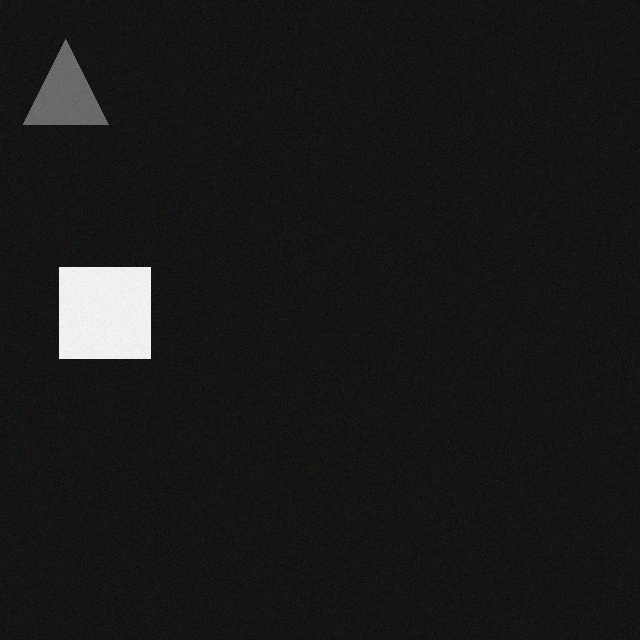square: (57, 273, 148, 364)
triangle: (21, 45, 106, 130)
